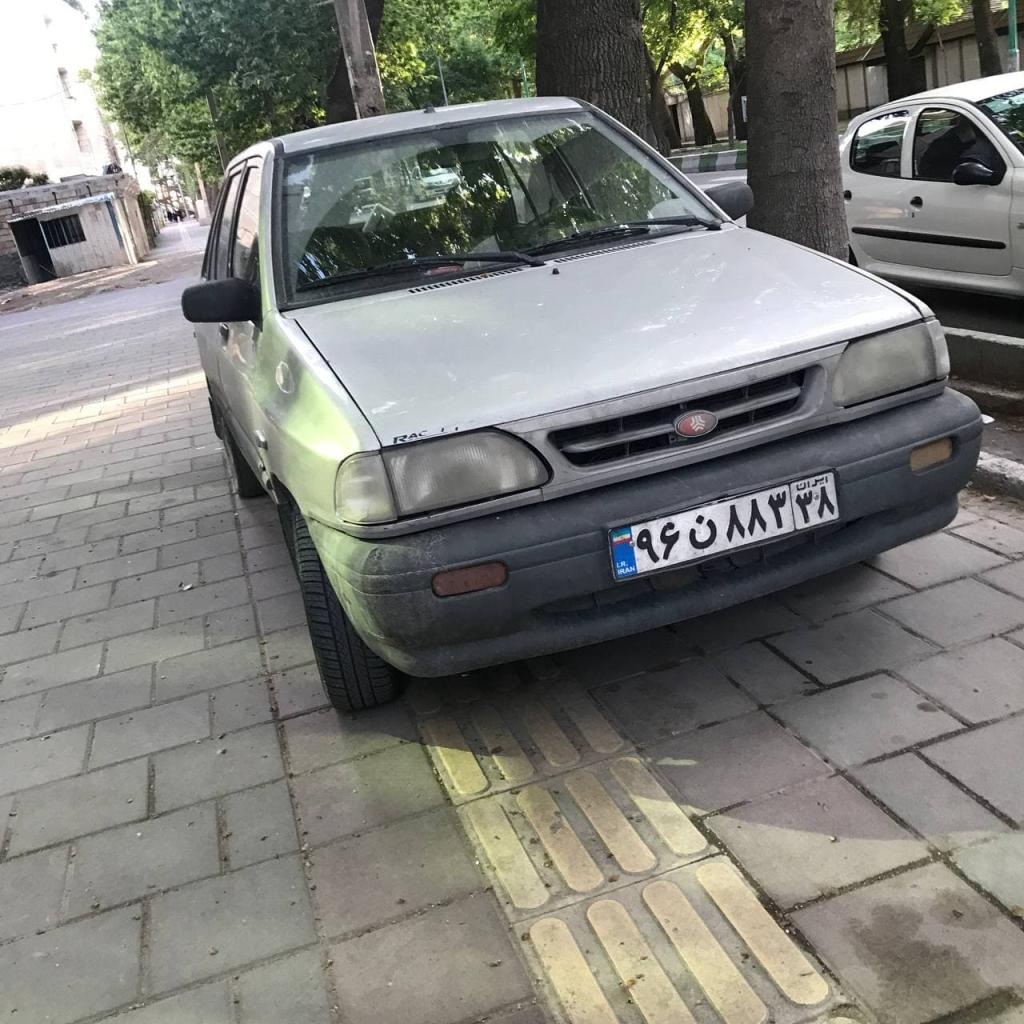Plates: (609, 471, 840, 579)
